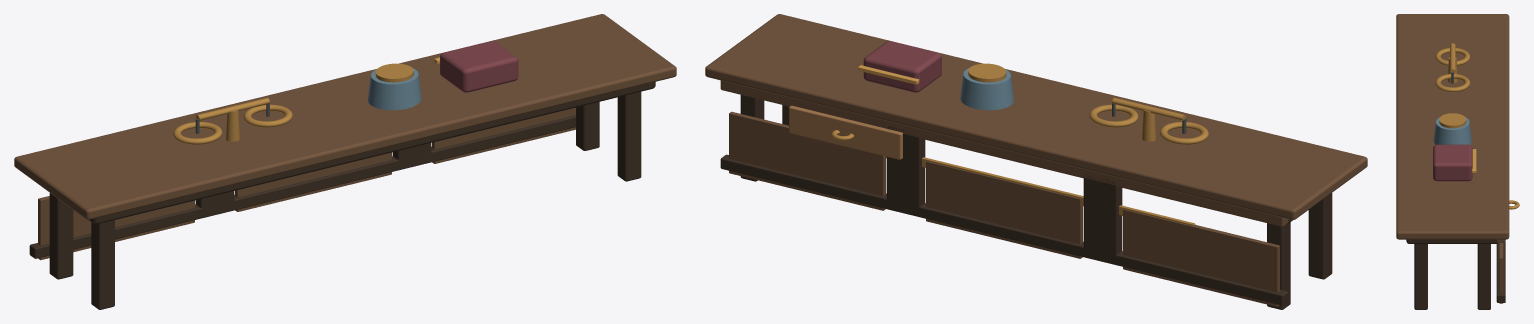
Rendered from detail_shop_counter.glb.
The picture shows the model from 3 angles, left to right: view 1: azimuth 30°, elevation 25°; view 2: azimuth 150°, elevation 25°; view 3: azimuth 270°, elevation 25°; orthographic projection. The views are drawn at different scales.
Visible parts, largest first — view 1: wood, cloth; view 2: wood, cloth, metal; view 3: wood, cloth, metal.
Part boxes in pixels (<box>): wood: <box>14,14,676,309</box>; cloth: <box>368,68,421,110</box>; wood: <box>705,14,1367,309</box>; cloth: <box>960,68,1013,110</box>; metal: <box>858,65,1186,133</box>; wood: <box>1396,14,1519,309</box>; cloth: <box>1433,117,1471,144</box>; metal: <box>1451,72,1476,173</box>.
Bounding box in the file's own units: 4.2 × 1 × 1.
